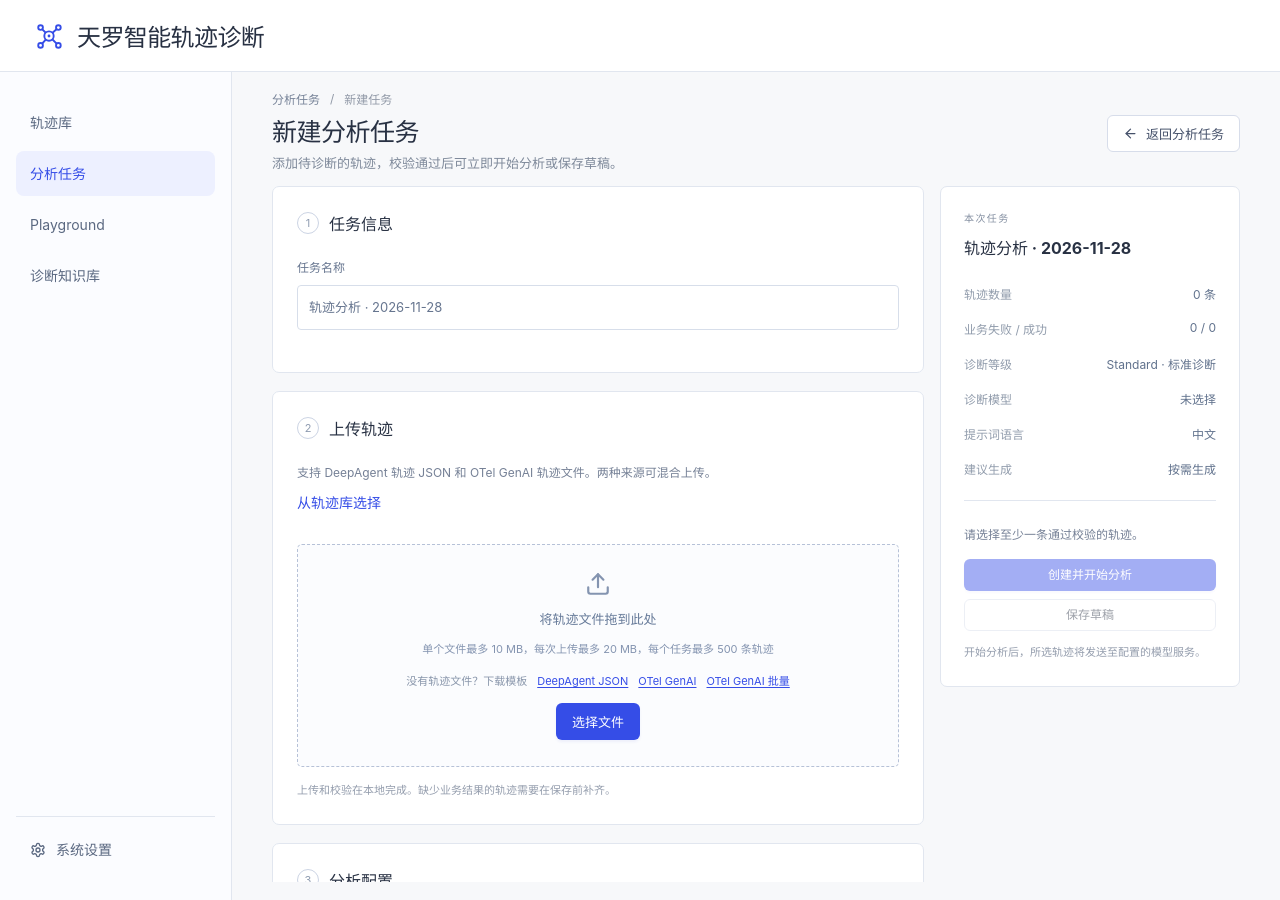
Test: returns from system settings with the unsaved task form intact
Later steps or results of the test are not shown.
Step 1. Replace the text in the field labelled "任务名称" with "排查线上审批轨迹" → (598, 308), box [297,285,899,330]
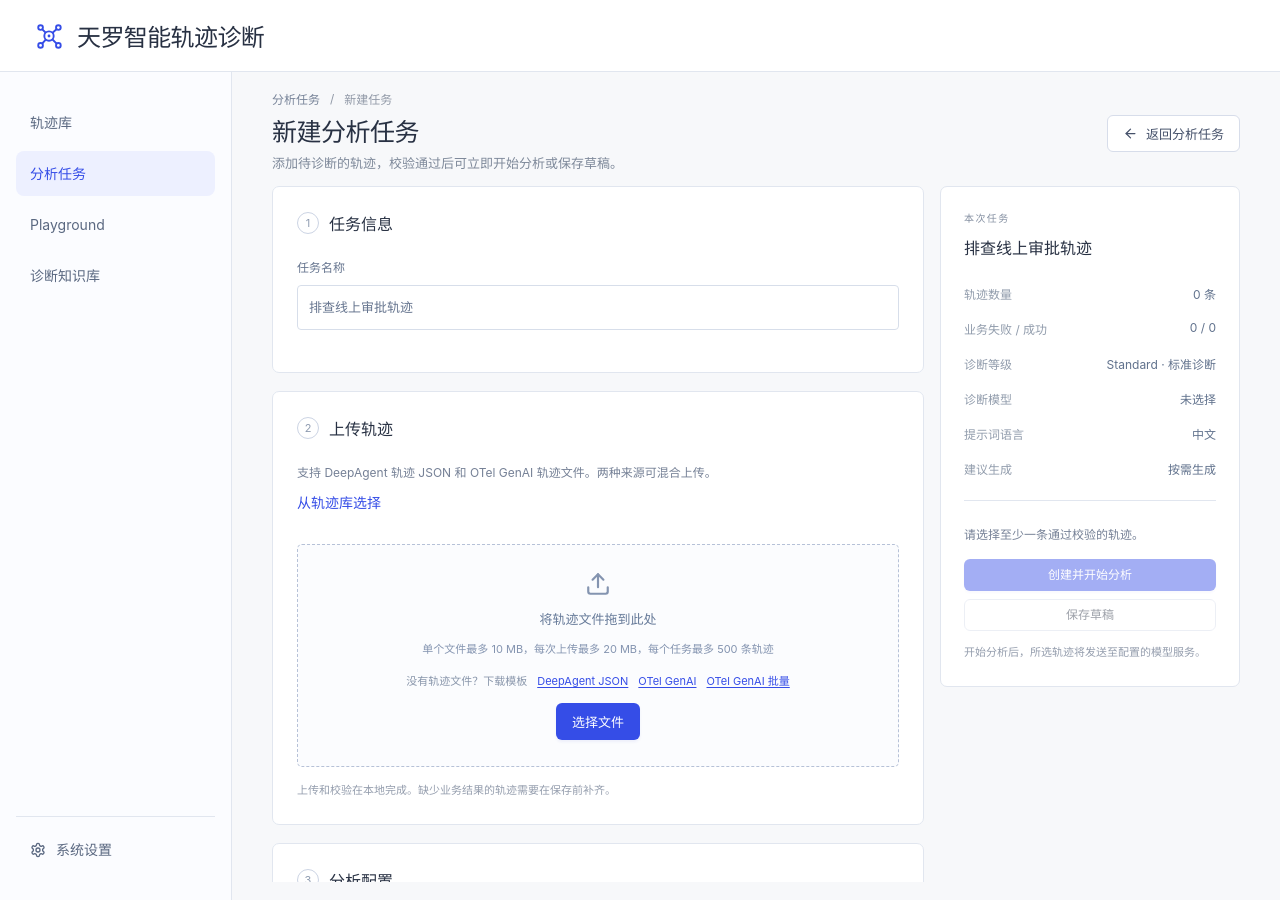
Step 2. Click the link "系统设置" → (71, 850), box [30,841,112,858]
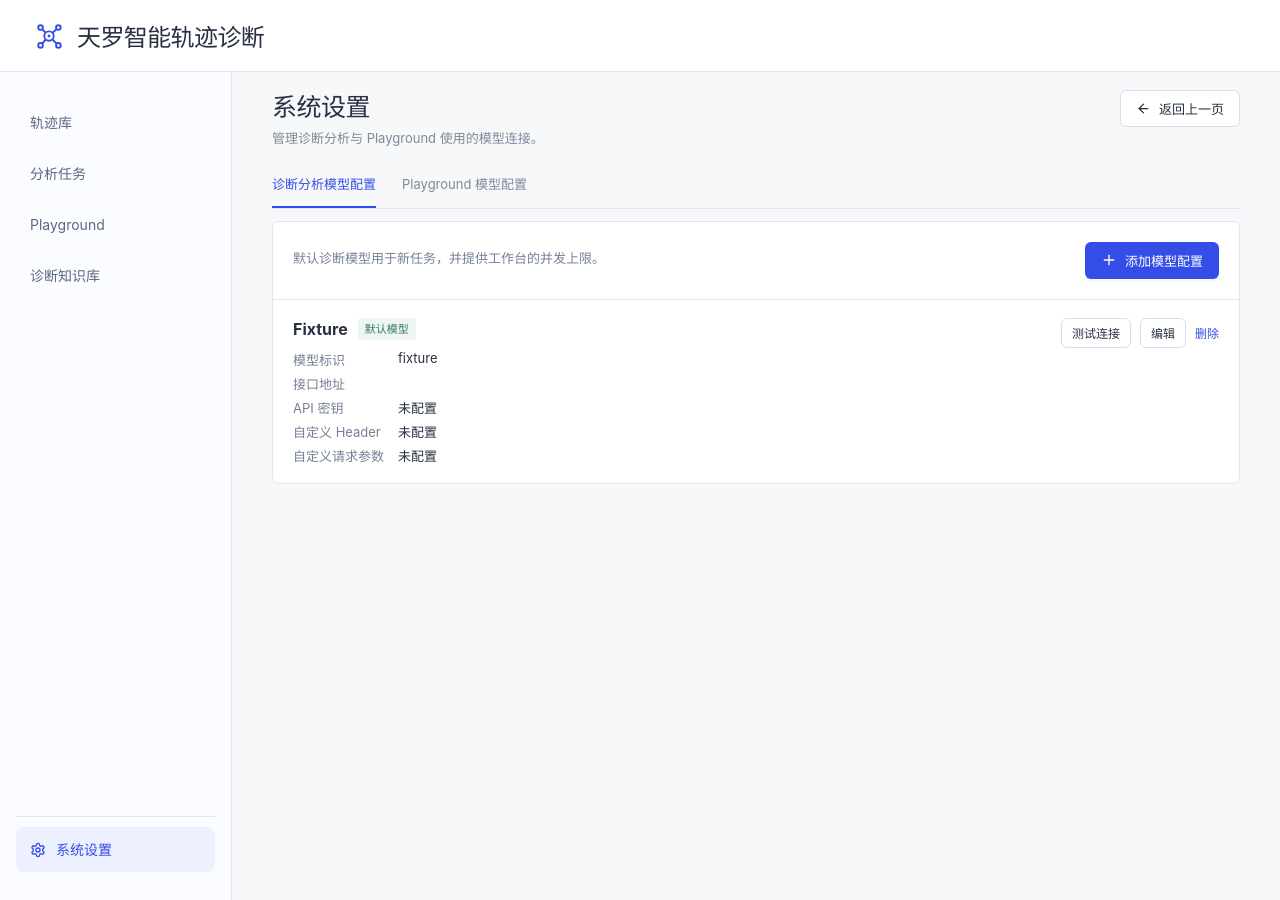
Now the heading "系统设置" is shown, box [272,92,370,122]
Now the label "任务名称" is gone
